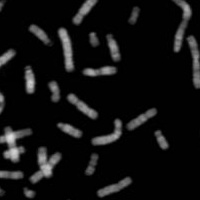chromosome: (171, 0, 191, 53), (30, 153, 61, 183), (91, 118, 120, 145), (67, 93, 97, 118), (187, 35, 200, 89), (97, 177, 132, 197), (127, 107, 156, 131), (58, 28, 74, 71), (0, 48, 15, 91), (72, 0, 97, 24), (0, 129, 33, 146), (4, 127, 19, 162), (38, 145, 51, 181), (29, 24, 51, 44), (57, 122, 82, 137), (107, 34, 120, 60), (83, 66, 116, 76), (0, 165, 24, 178), (85, 153, 98, 176), (25, 63, 35, 92), (126, 6, 141, 25), (155, 130, 168, 149), (48, 82, 59, 102), (4, 146, 23, 157), (89, 32, 98, 48), (22, 187, 34, 198), (0, 0, 7, 14), (0, 88, 3, 115), (0, 179, 4, 196), (30, 199, 72, 200)
